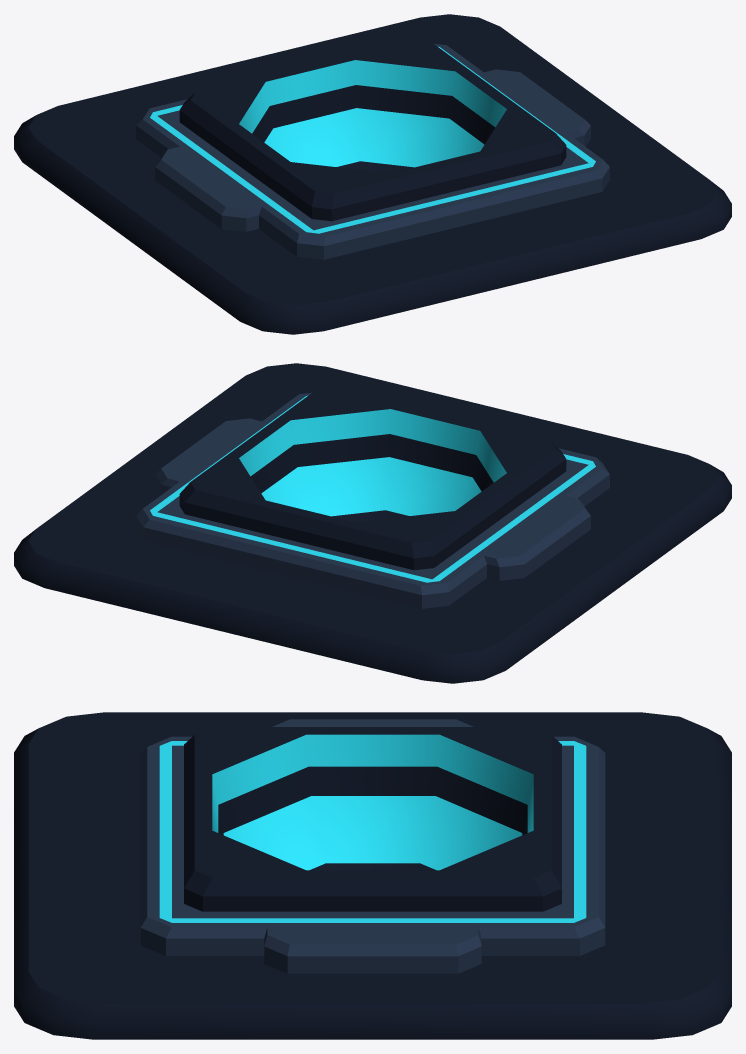
The model's file is ExitNode.fbx.
The picture shows the model from 3 angles, top to bottom: view 1: azimuth 30°, elevation 25°; view 2: azimuth 150°, elevation 25°; view 3: azimuth 270°, elevation 25°; orthographic projection. The views are drawn at different scales.
Parts seen in each view (by area): view 1: ExitNode; view 2: ExitNode; view 3: ExitNode.
Boxes of the visible parts, x1,y1,x2,y2 form: ExitNode: [14, 14, 731, 334]; ExitNode: [14, 363, 731, 683]; ExitNode: [14, 712, 731, 1039].
Bounding box in the file's own units: 201 × 47.95 × 201.
